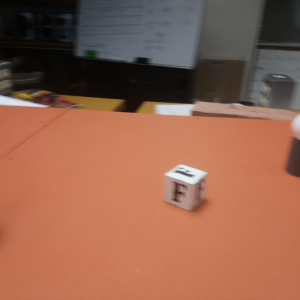blockF: (162, 162, 208, 210)
obstacle: (285, 111, 300, 177)
